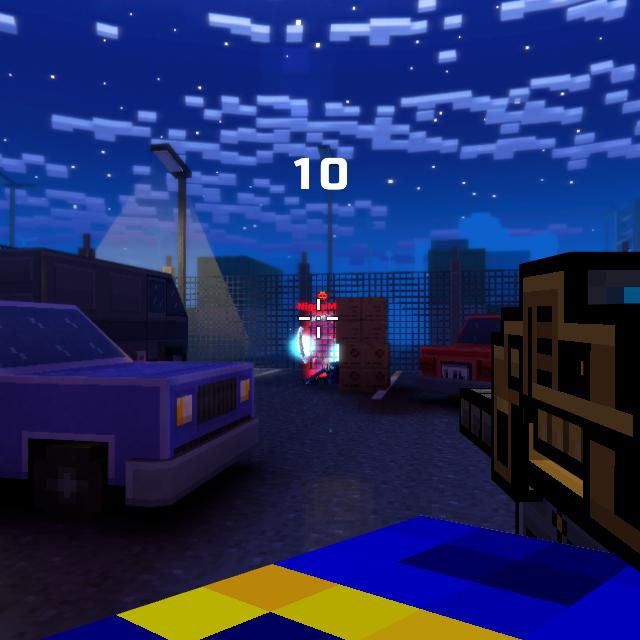Enemy: (309, 315, 334, 382)
